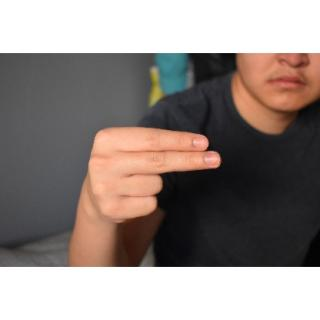AYN: (78, 120, 221, 224)
